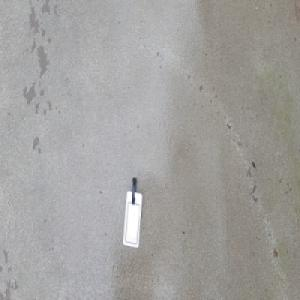LuggageTag: (121, 175, 142, 248)
